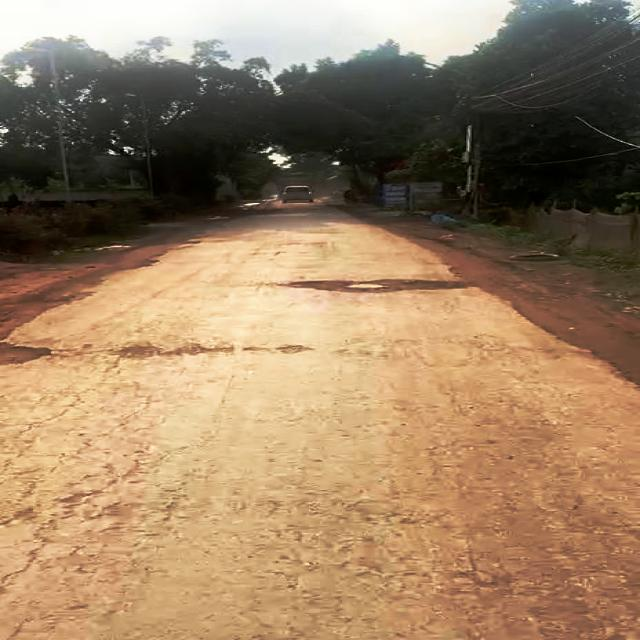pothole: (287, 275, 470, 298), (0, 332, 66, 369)
